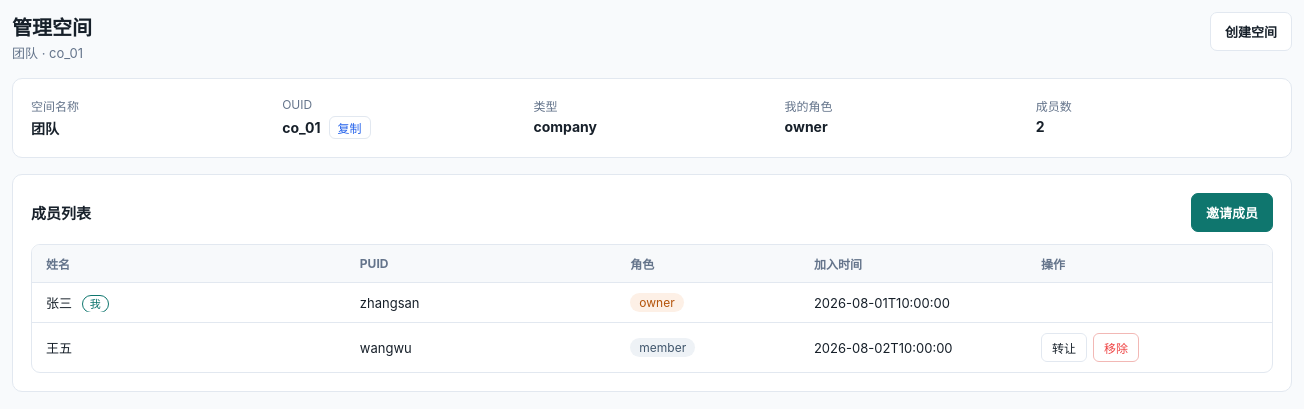
it: SpaceManageView › copies the ouid to the clipboard
What coordinates should you click on to do the following:
click the button with test id "copy-ouid"
I would click on:
 (350, 128)
Its box is [328,116,370,139].
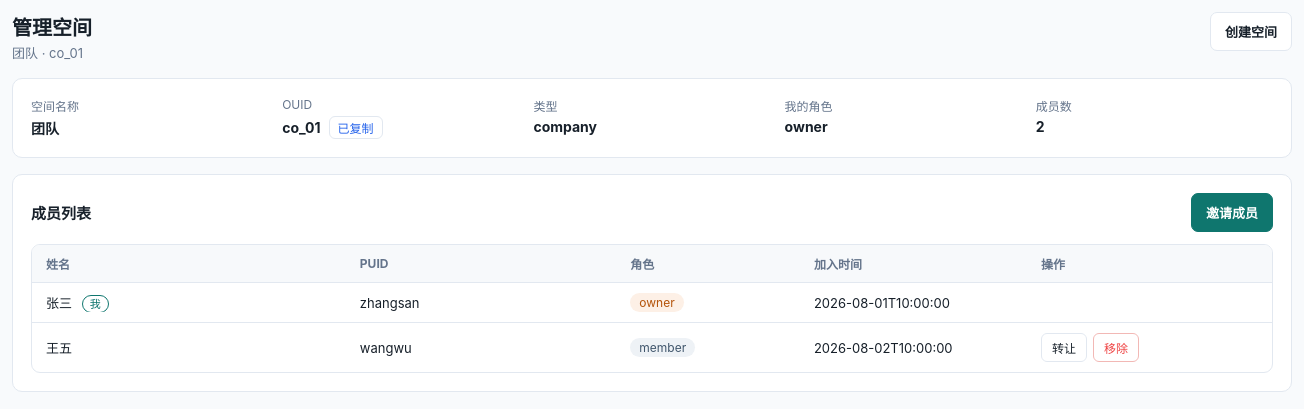
Expected: the button with test id "copy-ouid" reads "已复制", [328,116,382,139]
